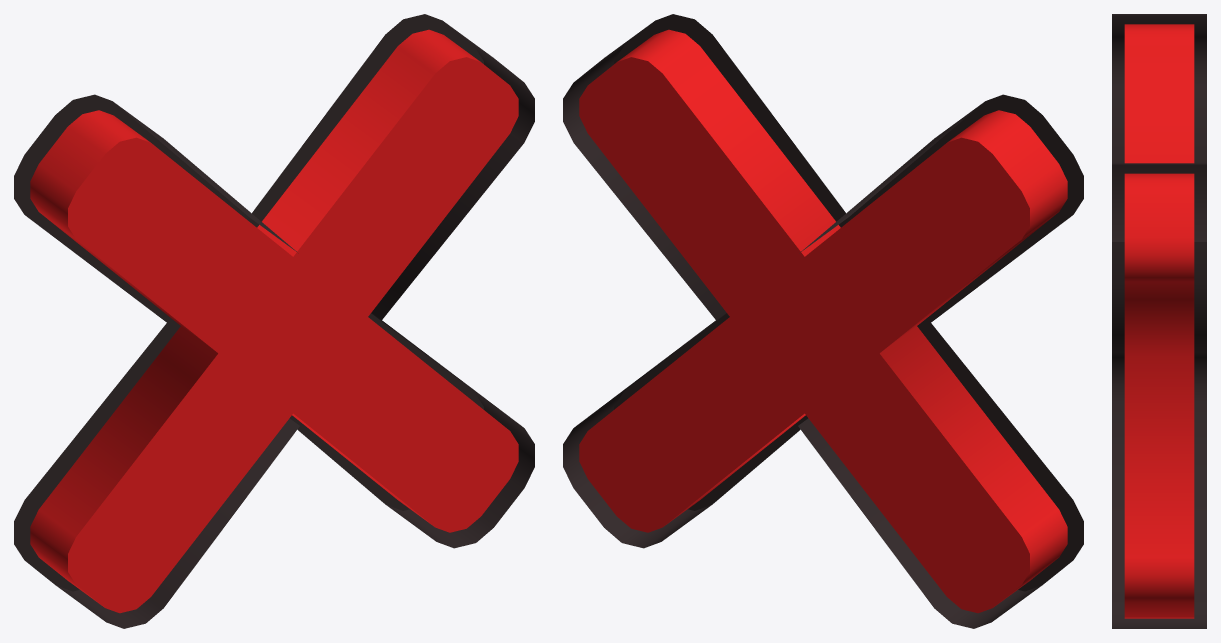
Rendered from Crossmark.glb.
3 views of the same model, side by side, from view 1: azimuth 30°, elevation 25°; view 2: azimuth 150°, elevation 25°; view 3: azimuth 270°, elevation 25° (orthographic). The views are drawn at different scales.
Parts seen in each view (by area): view 1: Crossmark; view 2: Crossmark; view 3: Crossmark.
Boxes of the visible parts, x1,y1,x2,y2 form: Crossmark: (14, 14, 534, 628); Crossmark: (563, 14, 1083, 628); Crossmark: (1112, 14, 1206, 628).
Bounding box in the file's own units: 0.4199 × 0.4199 × 0.0791.
1 material, 1 textured.
